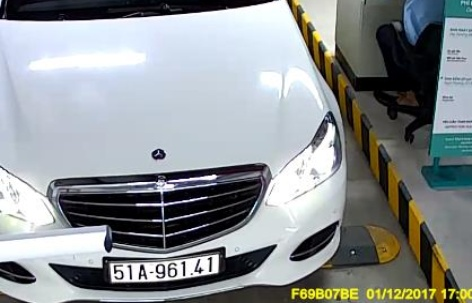plate: (99, 256, 229, 290)
